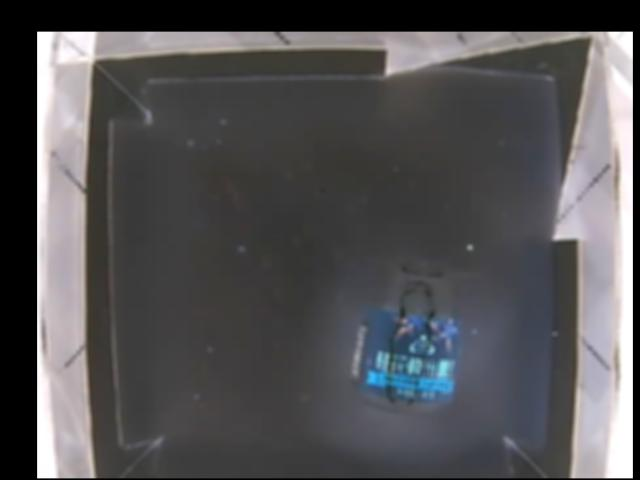Bottle: (350, 251, 462, 414)
